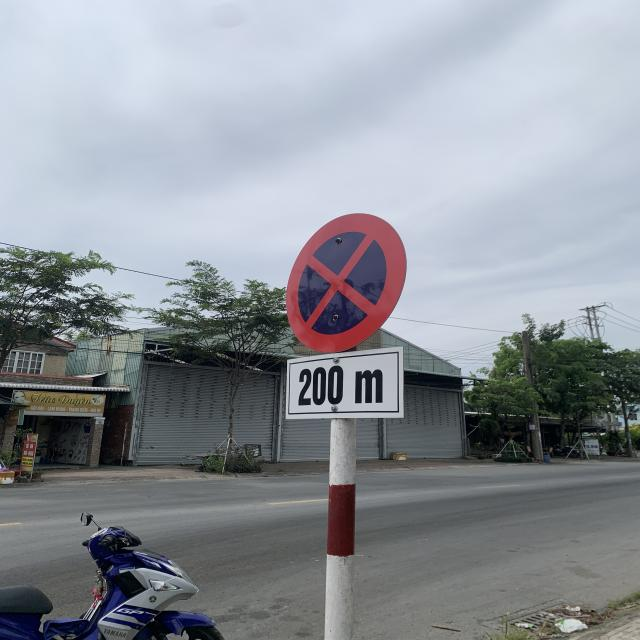Cam_Dung_Va_Dau_Xe: (287, 213, 405, 354)
